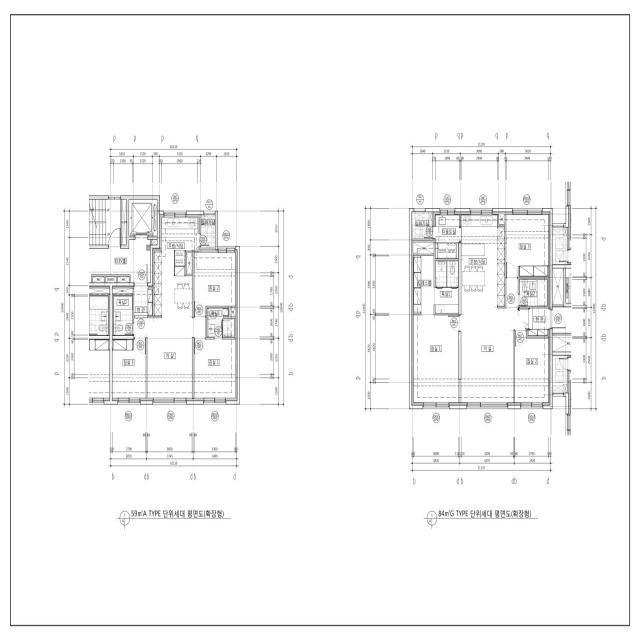space_balconi: (436, 215, 459, 258)
space_bedroom: (412, 315, 459, 405), (506, 212, 550, 277), (194, 250, 237, 316), (194, 339, 237, 401), (515, 332, 550, 405), (112, 339, 146, 401)
space_dressroom: (412, 256, 434, 313)
space_elevator: (129, 199, 157, 236), (566, 268, 571, 303)
space_elevator_hall: (89, 236, 150, 283), (553, 307, 571, 333)
space_front: (528, 308, 550, 336), (134, 286, 153, 316)
space_kitchen: (153, 215, 200, 318), (461, 212, 505, 308)
space_living_room: (461, 279, 529, 405), (134, 318, 205, 401)
space_other: (553, 268, 563, 305), (553, 335, 571, 352), (412, 241, 434, 254), (122, 200, 126, 245), (112, 286, 133, 294), (187, 253, 192, 274), (93, 277, 104, 283), (230, 308, 237, 317), (105, 277, 116, 282), (118, 277, 129, 282), (152, 240, 157, 245)
space_outdoor_room: (412, 212, 432, 239), (201, 215, 215, 248)
space_staircase: (89, 199, 121, 245)
space_toilet: (435, 261, 458, 313), (207, 308, 235, 337), (113, 296, 133, 336)
